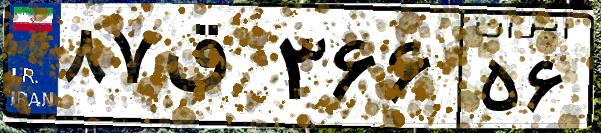3: (270, 28, 330, 110)
5: (475, 38, 525, 113)
6: (385, 28, 445, 110), (330, 28, 385, 110), (525, 38, 570, 115)
7: (110, 28, 158, 98)
8: (57, 26, 110, 100)
ق: (158, 20, 270, 120)
